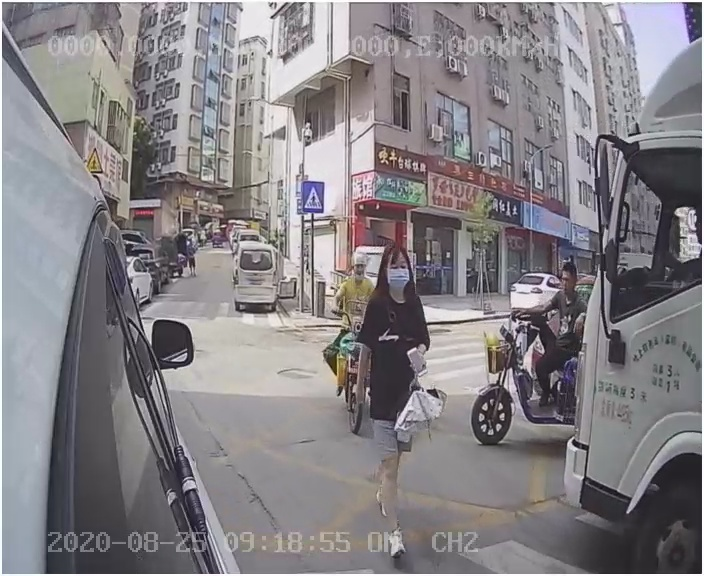person: (349, 246, 469, 539)
